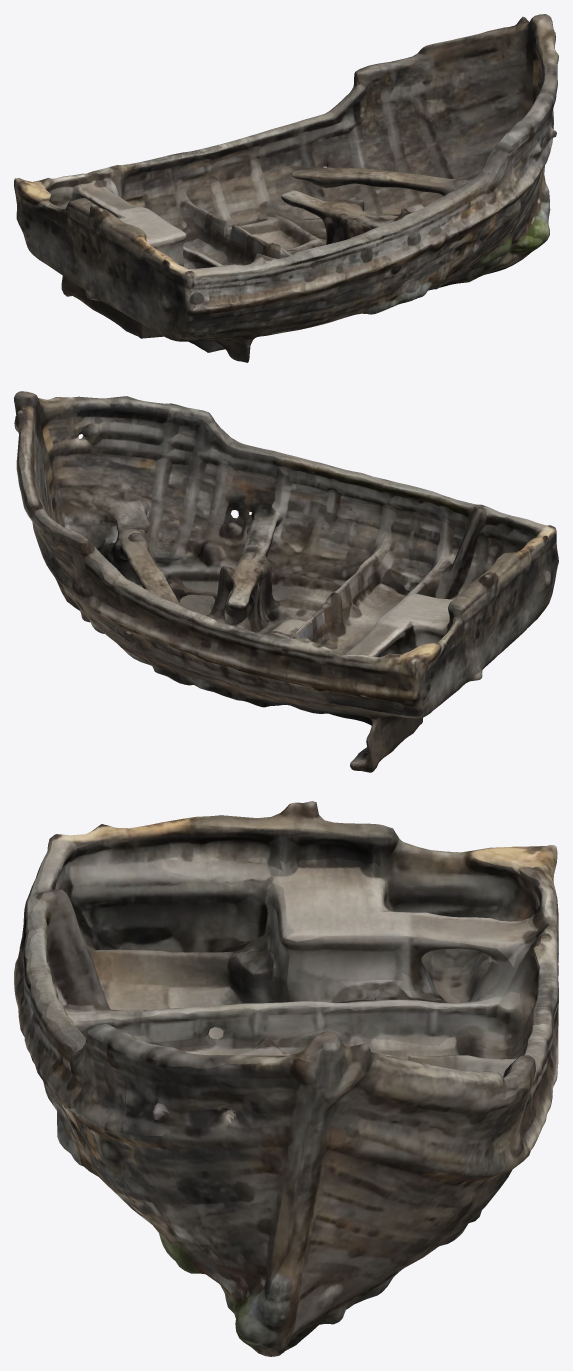
The model's file is sunken_boat.glb.
3 views of the same model, one above another, from view 1: azimuth 30°, elevation 25°; view 2: azimuth 150°, elevation 25°; view 3: azimuth 270°, elevation 25° (orthographic). The views are drawn at different scales.
Bounding box in the file's own units: 2.11 × 0.983 × 1.32.
Materials: 1 (1 with a texture image).
